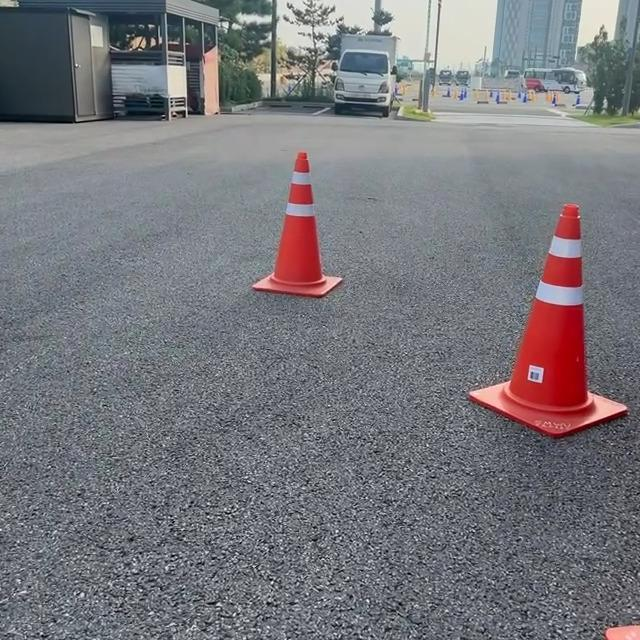fallen_object: (420, 183, 625, 506), (220, 129, 350, 308)
